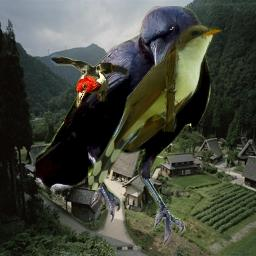Crow: (36, 6, 211, 245)
Cuckoo: (88, 25, 222, 190)
Woodpecker: (46, 52, 129, 109)
